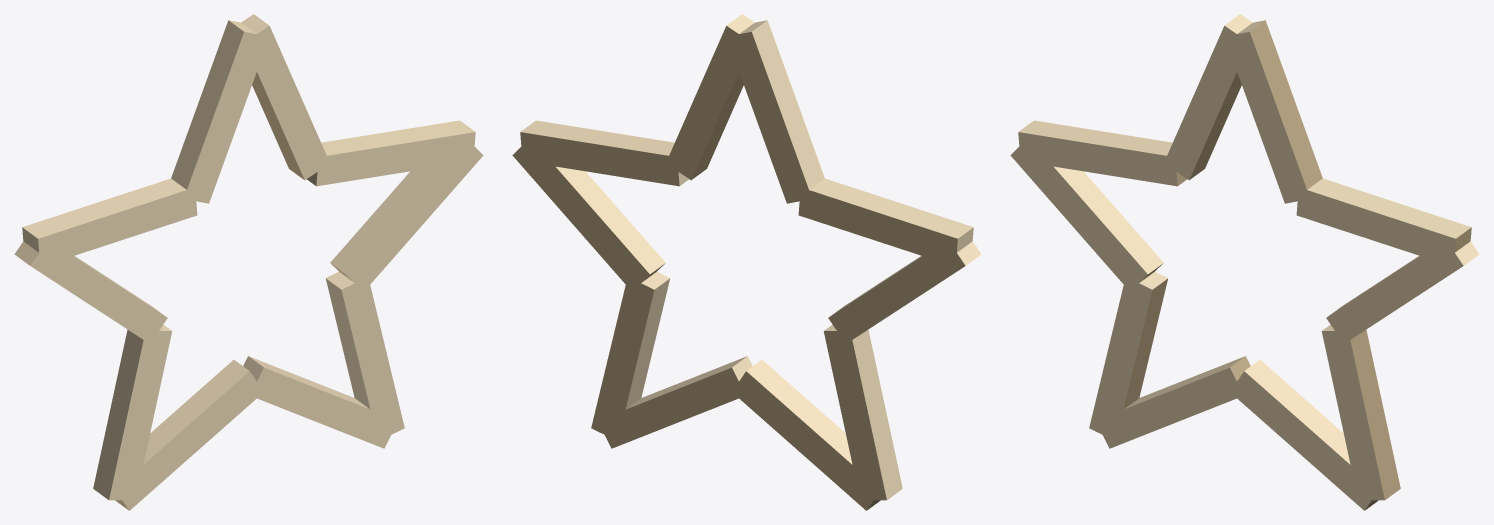
The model's file is star_empty.glb.
3 views of the same model, side by side, from view 1: azimuth 30°, elevation 25°; view 2: azimuth 150°, elevation 25°; view 3: azimuth 330°, elevation 25° (orthographic).
Parts seen in each view (by area): view 1: star; view 2: star; view 3: star.
Boxes of the visible parts, bbox=[...] form: star: bbox=[14, 14, 483, 510]; star: bbox=[512, 14, 981, 510]; star: bbox=[1010, 14, 1479, 510].
Bounding box in the file's own units: 0.0495 × 0.0471 × 0.003.
